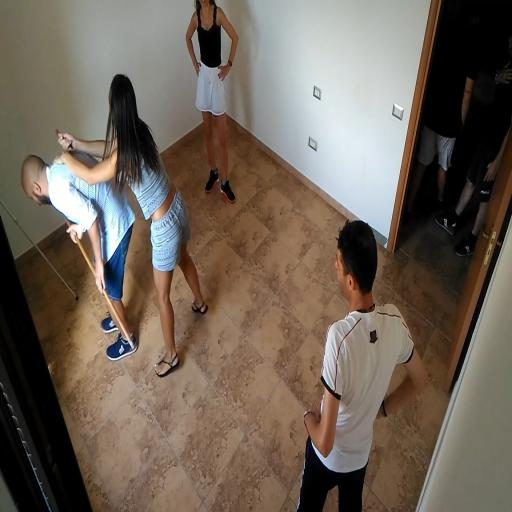esfaquear: (13, 65, 220, 377)
